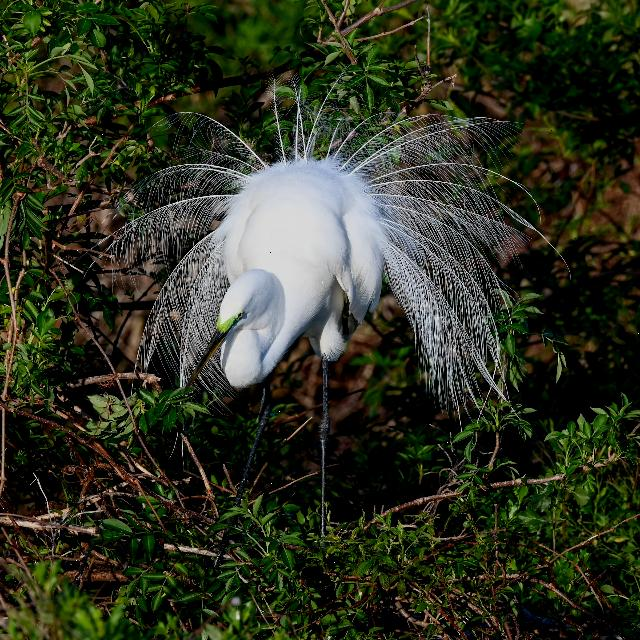egret: (96, 62, 544, 534)
